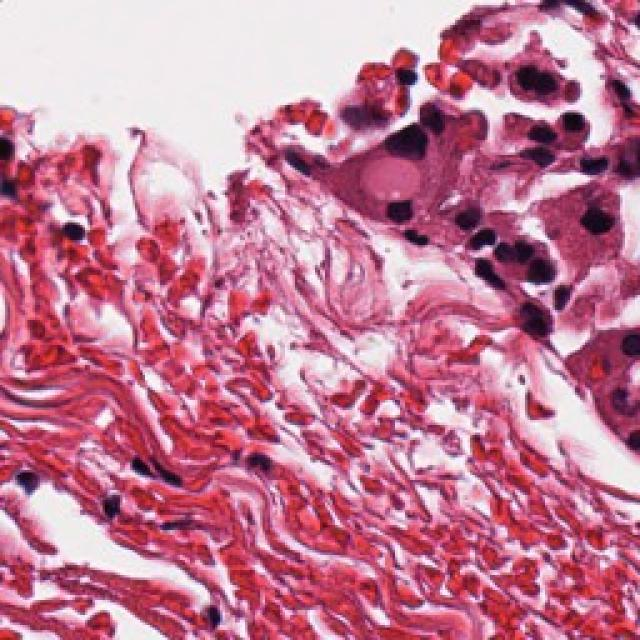normal: (552, 190, 640, 272), (368, 171, 447, 243), (361, 106, 431, 178), (598, 308, 640, 394), (593, 381, 640, 439)
